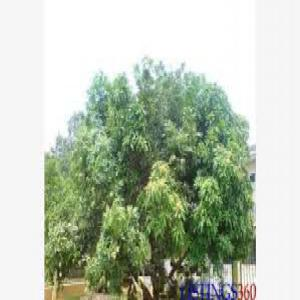Tree: (58, 57, 253, 288)
